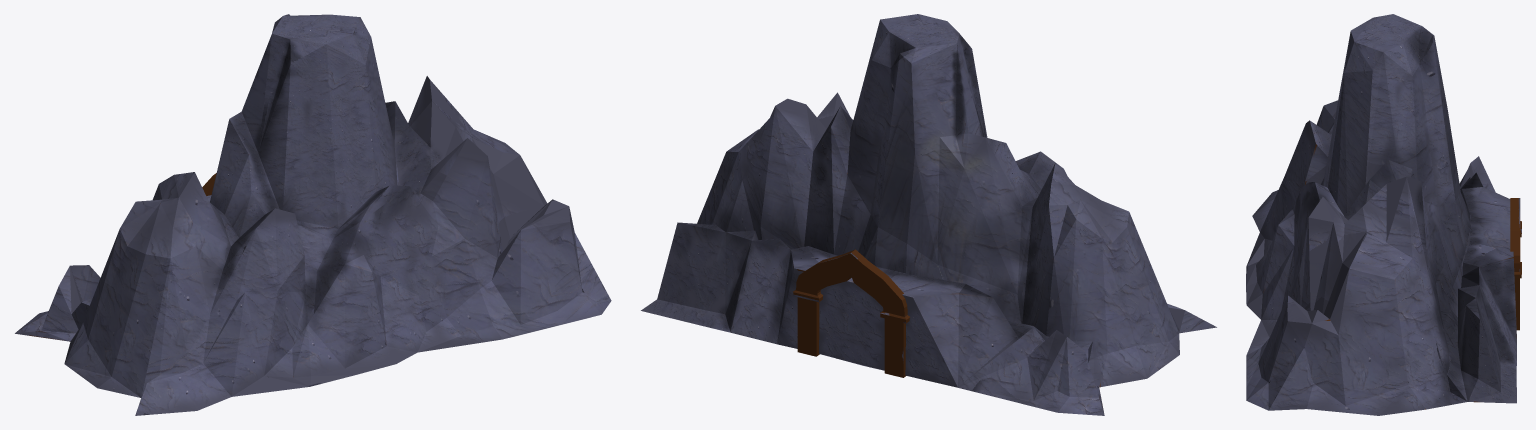
The model's file is swampDungeon.glb.
3 views of the same model, side by side, from view 1: azimuth 30°, elevation 25°; view 2: azimuth 150°, elevation 25°; view 3: azimuth 270°, elevation 25° (orthographic). The views are drawn at different scales.
Visible parts, largest first — view 1: dung; view 2: dung; view 3: dung.
Part boxes in pixels (x1,y1,x2,y2): dung: [15, 14, 611, 415]; dung: [641, 14, 1216, 415]; dung: [1246, 14, 1521, 415].
Size of the model in its own units: 50.76 by 28.86 by 26.33.
Materials: 1 (1 with a texture image).
